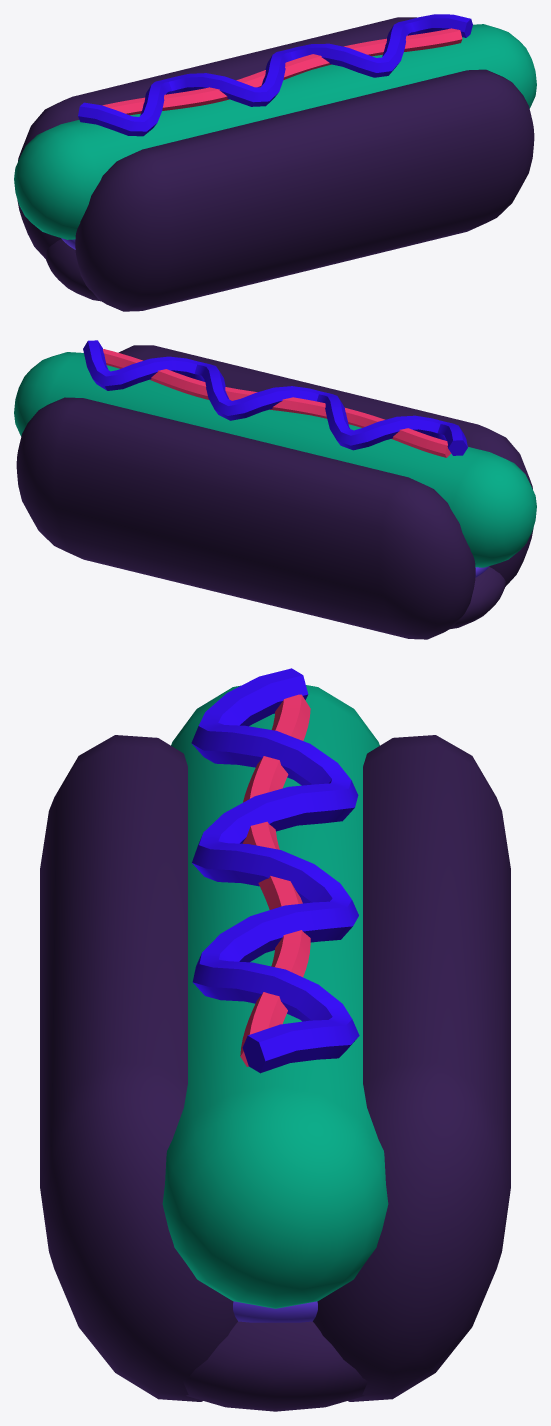
Rendered from VoidHotDog.obj.
The picture shows the model from 3 angles, top to bottom: view 1: azimuth 30°, elevation 25°; view 2: azimuth 150°, elevation 25°; view 3: azimuth 270°, elevation 25°; orthographic projection. The views are drawn at different scales.
Parts seen in each view (by area): view 1: VoidHotDog; view 2: VoidHotDog; view 3: VoidHotDog.
Part boxes in pixels (x1,y1,x2,y2): VoidHotDog: (14,14,536,311); VoidHotDog: (14,340,536,639); VoidHotDog: (40,668,510,1411).
Size of the model in its own units: 2 by 0.7165 by 0.8033.
